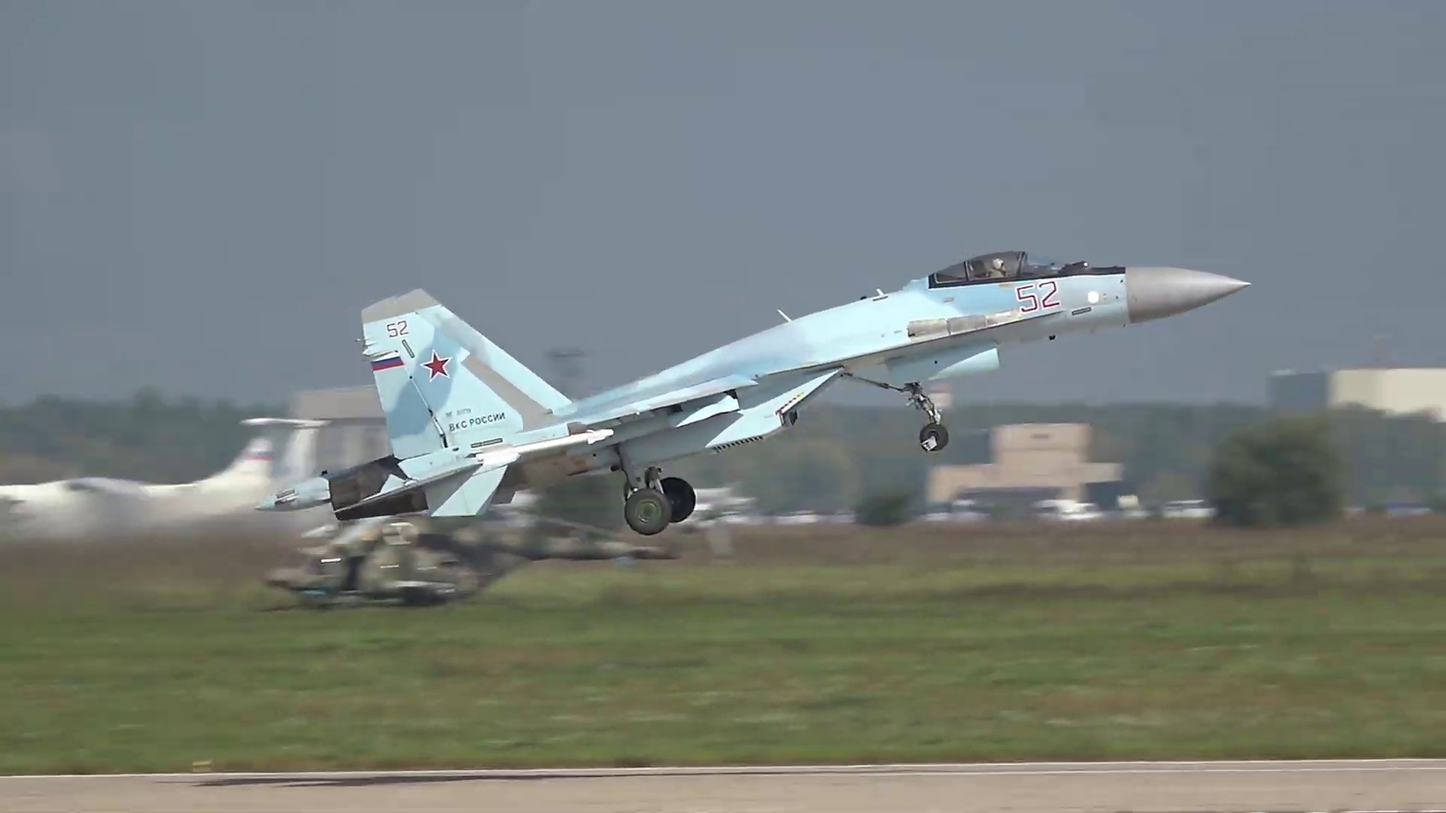Su35: (255, 245, 1258, 533)
